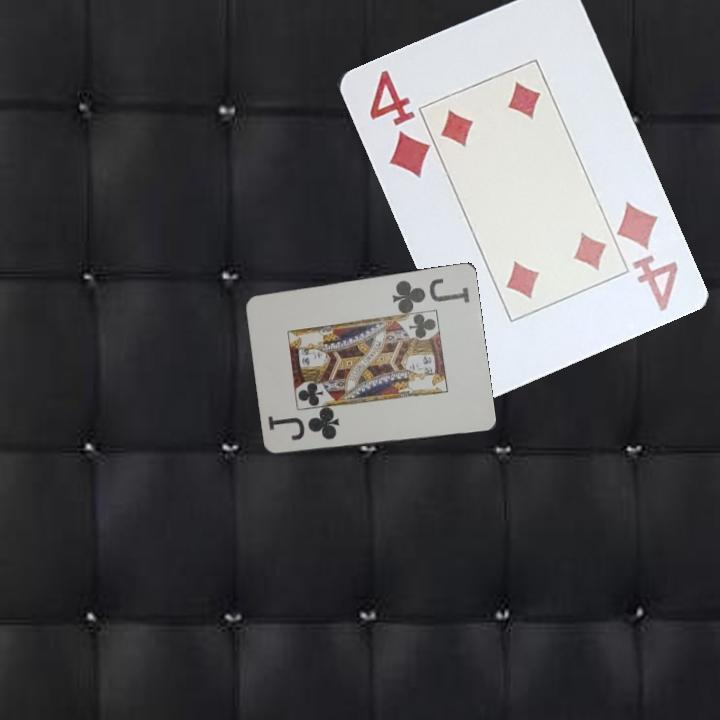4d: (612, 197, 681, 314), (365, 66, 432, 181)
Jc: (389, 274, 472, 315), (265, 409, 342, 443)
